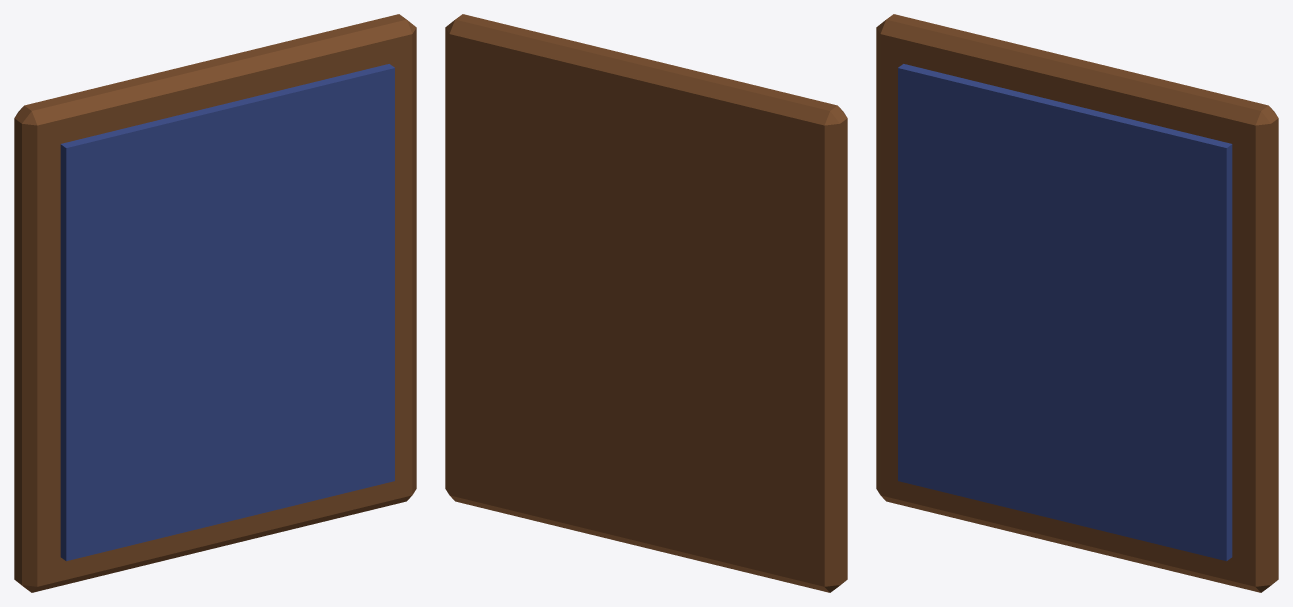
Rendered from arcade_poster.glb.
3 views of the same model, side by side, from view 1: azimuth 30°, elevation 25°; view 2: azimuth 150°, elevation 25°; view 3: azimuth 330°, elevation 25° (orthographic).
Visible parts, largest first — view 1: arcade_poster; view 2: arcade_poster; view 3: arcade_poster.
Boxes of the visible parts, left/top/right/bottom form: arcade_poster: left=14, top=14, right=416, bottom=592; arcade_poster: left=445, top=14, right=847, bottom=592; arcade_poster: left=876, top=14, right=1278, bottom=592.
Bounding box in the file's own units: 0.6 × 0.7 × 0.065.
